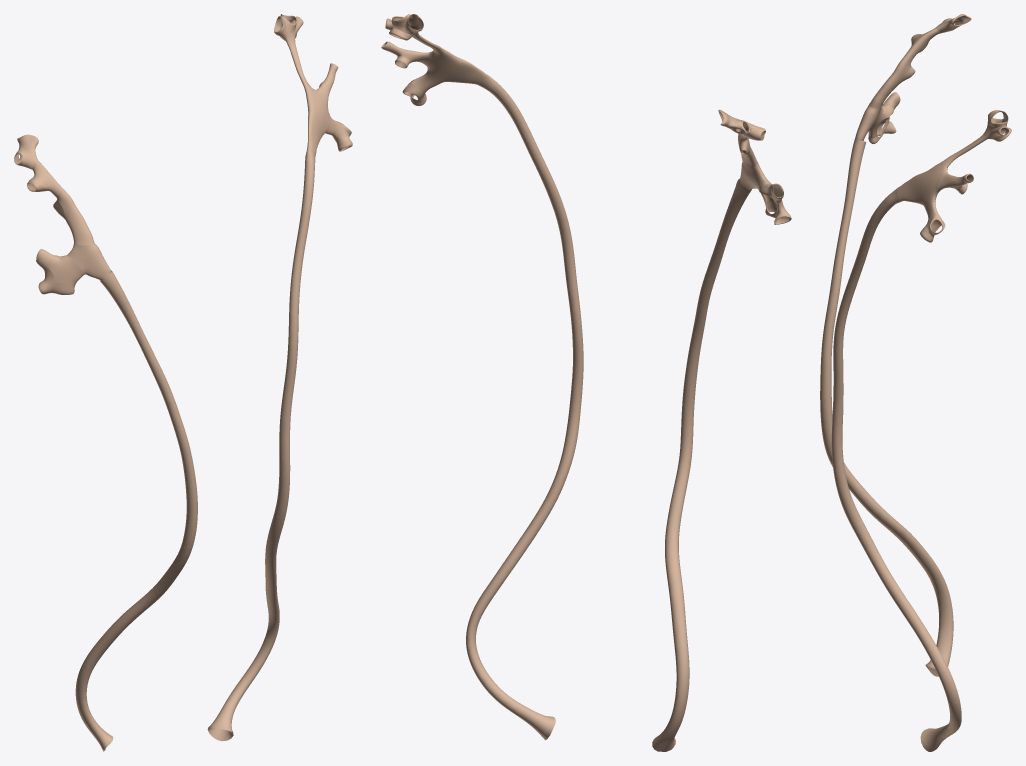
File: explorar-ureters.glb
3 renders of one model, left to right at view 1: azimuth 30°, elevation 25°; view 2: azimuth 150°, elevation 25°; view 3: azimuth 270°, elevation 25°, orthographic. The views are drawn at different scales.
Visible parts, largest first — view 1: ureters__ureter_izquierdo, ureters__ureter_derecho, ureters__calices_derechos, ureters__calices_izquierdos, ureters__pelvis_renal_izquierda, ureters__pelvis_renal_derecha; view 2: ureters__ureter_izquierdo, ureters__ureter_derecho, ureters__calices_izquierdos, ureters__calices_derechos, ureters__pelvis_renal_izquierda; view 3: ureters__ureter_izquierdo, ureters__ureter_derecho, ureters__calices_derechos, ureters__calices_izquierdos, ureters__pelvis_renal_izquierda, ureters__pelvis_renal_derecha.
Part boxes in pixels (x1,y1,x2,y2): ureters__ureter_izquierdo: [207, 145, 316, 741]; ureters__ureter_derecho: [75, 270, 197, 751]; ureters__calices_derechos: [14, 134, 94, 294]; ureters__calices_izquierdos: [274, 14, 352, 151]; ureters__pelvis_renal_izquierda: [305, 88, 329, 150]; ureters__pelvis_renal_derecha: [67, 243, 111, 280]; ureters__ureter_izquierdo: [466, 75, 583, 740]; ureters__ureter_derecho: [652, 178, 751, 751]; ureters__calices_izquierdos: [381, 14, 444, 105]; ureters__calices_derechos: [718, 109, 791, 224]; ureters__pelvis_renal_izquierda: [427, 49, 487, 84]; ureters__ureter_izquierdo: [831, 188, 961, 751]; ureters__ureter_derecho: [820, 138, 953, 676]; ureters__calices_derechos: [868, 14, 971, 143]; ureters__calices_izquierdos: [920, 110, 1011, 242]; ureters__pelvis_renal_izquierda: [897, 162, 947, 204]; ureters__pelvis_renal_derecha: [855, 105, 883, 140].
Bounding box in the file's own units: 0.1543 × 0.2939 × 0.0743.
